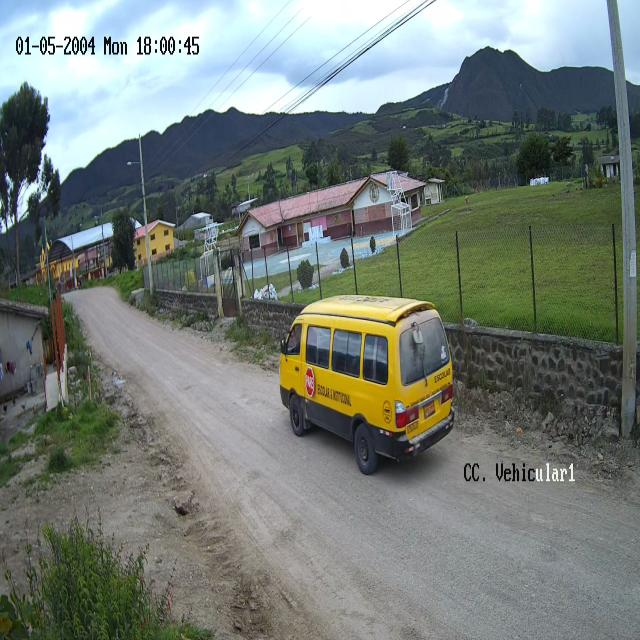BUS: (279, 296, 456, 476)
